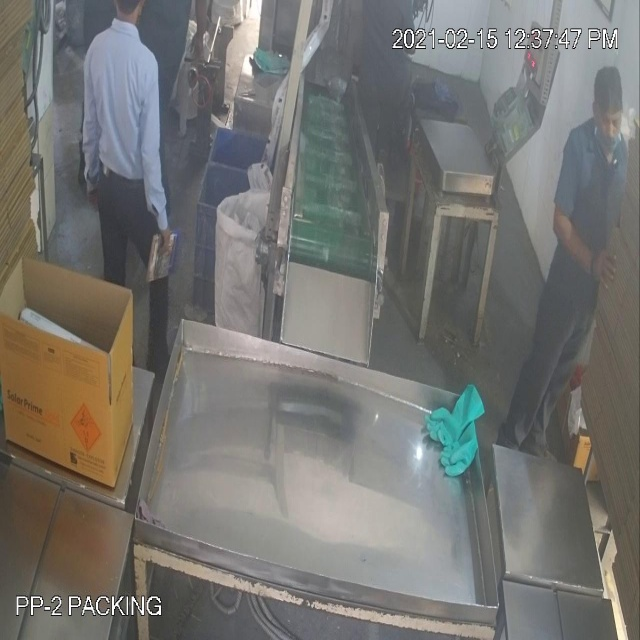Sin_guantes: (138, 54, 176, 252), (546, 205, 621, 294)
